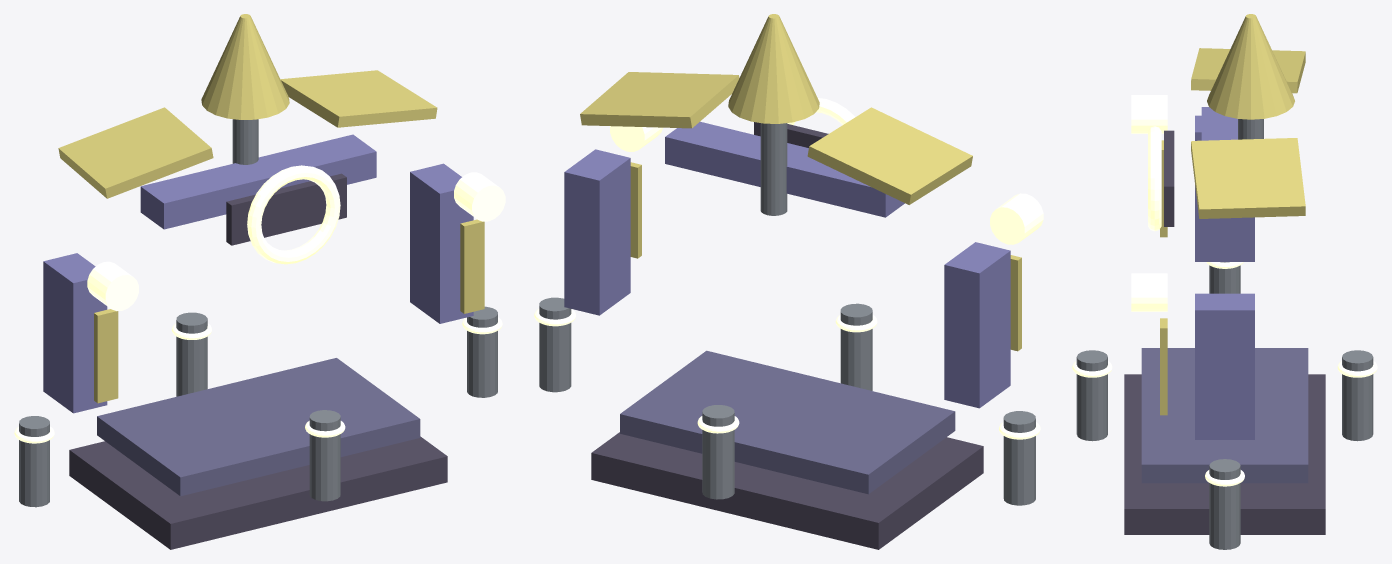
The model's file is asset.glb.
3 views of the same model, side by side, from view 1: azimuth 30°, elevation 25°; view 2: azimuth 150°, elevation 25°; view 3: azimuth 270°, elevation 25° (orthographic). The views are drawn at different scales.
Visible parts, largest first — view 1: RaisedDeck, Foundation, CrossBeam, CanopyWing_-1, Pylon_-1, Pylon_1, CanopyWing_1, TopMarker, SignPanel, IdentityRing, Bollard_3, Bollard_2 (+7 smaller); view 2: RaisedDeck, Foundation, Pylon_1, Pylon_-1, CanopyWing_-1, CrossBeam, CanopyWing_1, TopMarker, Bollard_2, Bollard_1, Bollard_0, CenterMast (+6 smaller); view 3: RaisedDeck, Foundation, Pylon_1, CanopyWing_1, TopMarker, Bollard_1, Bollard_3, Bollard_0, CanopyWing_-1, Pylon_-1, CrossBeam, Lamp_1 (+6 smaller).
Boxes of the visible parts, box(x1,y1,x2,y2) form: RaisedDeck: box(97, 358, 420, 496); Foundation: box(69, 436, 447, 549); CrossBeam: box(140, 134, 376, 229); CanopyWing_-1: box(58, 107, 213, 198); Pylon_-1: box(43, 253, 107, 413); Pylon_1: box(410, 163, 473, 323); CanopyWing_1: box(280, 70, 437, 127); TopMarker: box(201, 14, 289, 119); SignPanel: box(226, 173, 346, 245); IdentityRing: box(247, 165, 340, 264); Bollard_3: box(309, 410, 340, 501); Bollard_2: box(19, 416, 49, 507); RaisedDeck: box(620, 350, 955, 494); Foundation: box(591, 432, 983, 549); Pylon_1: box(564, 149, 630, 315); Pylon_-1: box(944, 242, 1010, 408); CanopyWing_-1: box(807, 107, 972, 204); CrossBeam: box(665, 121, 904, 217); CanopyWing_1: box(580, 72, 739, 128); TopMarker: box(728, 14, 819, 123); Bollard_2: box(1003, 411, 1035, 505); Bollard_1: box(702, 405, 734, 499); Bollard_0: box(539, 297, 571, 392); CenterMast: box(760, 123, 787, 215); RaisedDeck: box(1141, 348, 1308, 483); Foundation: box(1124, 374, 1325, 534); Pylon_1: box(1195, 293, 1254, 439); CanopyWing_1: box(1191, 138, 1305, 218); TopMarker: box(1207, 14, 1294, 119); Bollard_1: box(1342, 350, 1373, 441); Bollard_3: box(1076, 350, 1107, 441); Bollard_0: box(1209, 459, 1240, 549); CanopyWing_-1: box(1191, 48, 1305, 93); Pylon_-1: box(1195, 115, 1254, 261); CrossBeam: box(1201, 107, 1248, 236); Lamp_1: box(1131, 273, 1167, 311).
Size of the model in its own units: 4.27 by 3.83 by 2.35.
